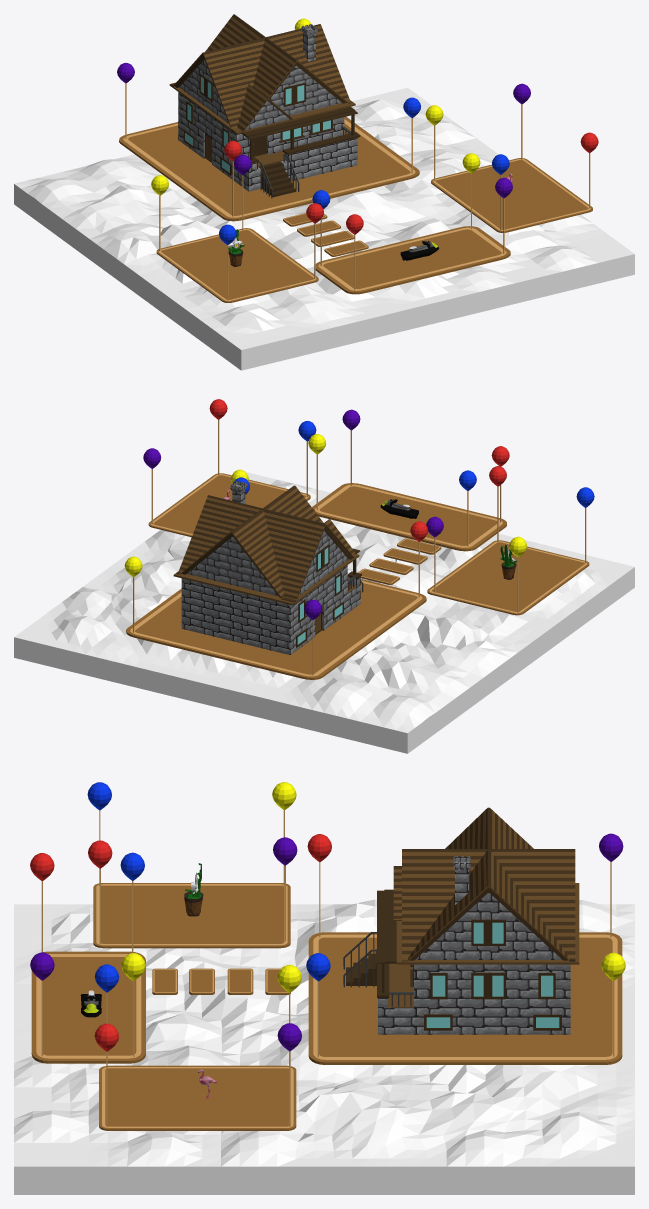
The picture shows the model from 3 angles, top to bottom: view 1: azimuth 30°, elevation 25°; view 2: azimuth 150°, elevation 25°; view 3: azimuth 270°, elevation 25°; orthographic projection. The views are drawn at different scales.
Parts seen in each view (by area): view 1: Cube.013, Cube.586; view 2: Cube.013, Cube.586; view 3: Cube.013, Cube.586, OBJRANDOM_MONJA BLANCA.
Part boxes in pixels (x1=…): Cube.013: x1=14, y1=18, x2=634, y2=370; Cube.586: x1=169, y1=14, x2=360, y2=198; Cube.013: x1=14, y1=399, x2=634, y2=753; Cube.586: x1=173, y1=481, x2=363, y2=654; Cube.013: x1=14, y1=782, x2=634, y2=1194; Cube.586: x1=343, y1=807, x2=579, y2=1034; OBJRANDOM_MONJA BLANCA: x1=184, y1=863, x2=203, y2=916.
Size of the model in its own units: 4000 by 1697 by 4000.
33 materials, 2 textured.
